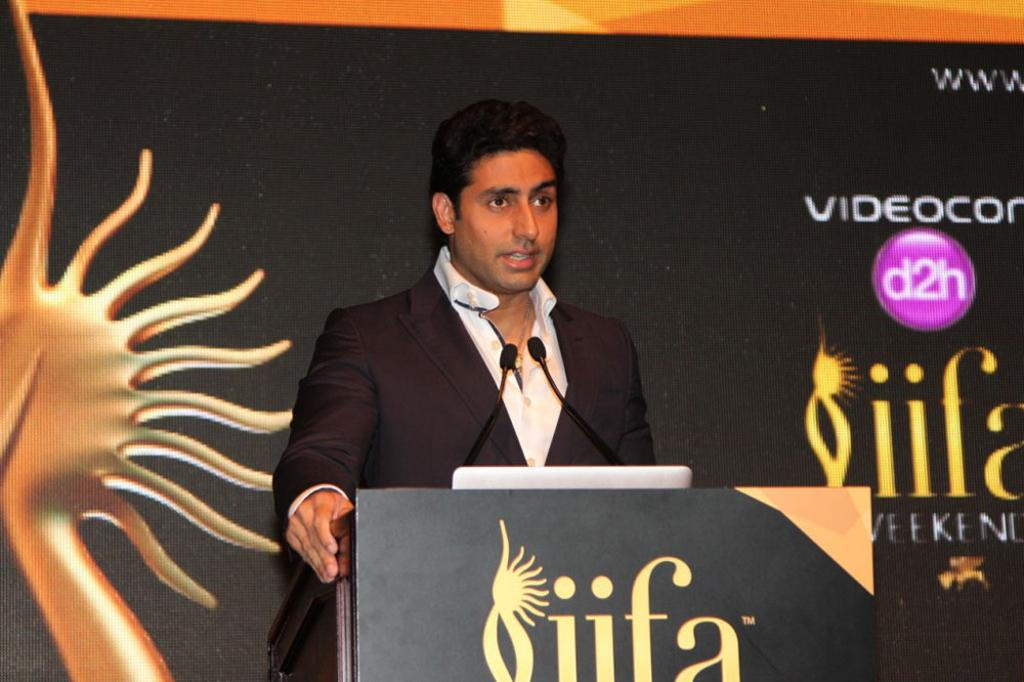face: (459, 155, 559, 291)
